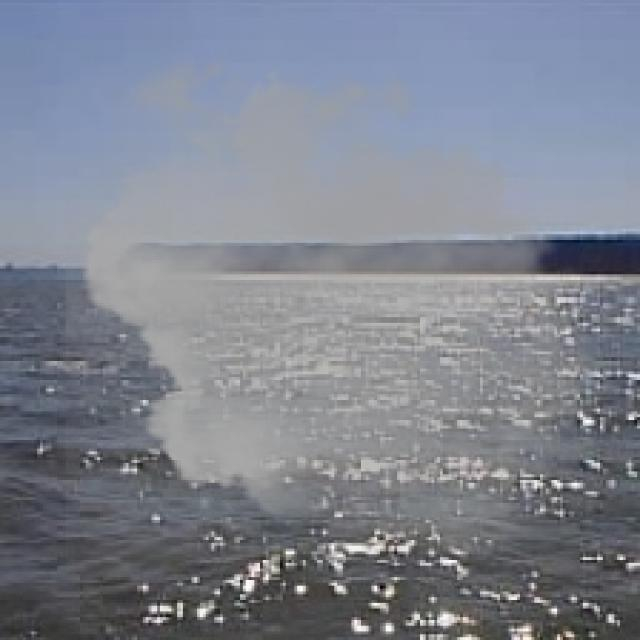Smoke: (66, 39, 634, 572)
